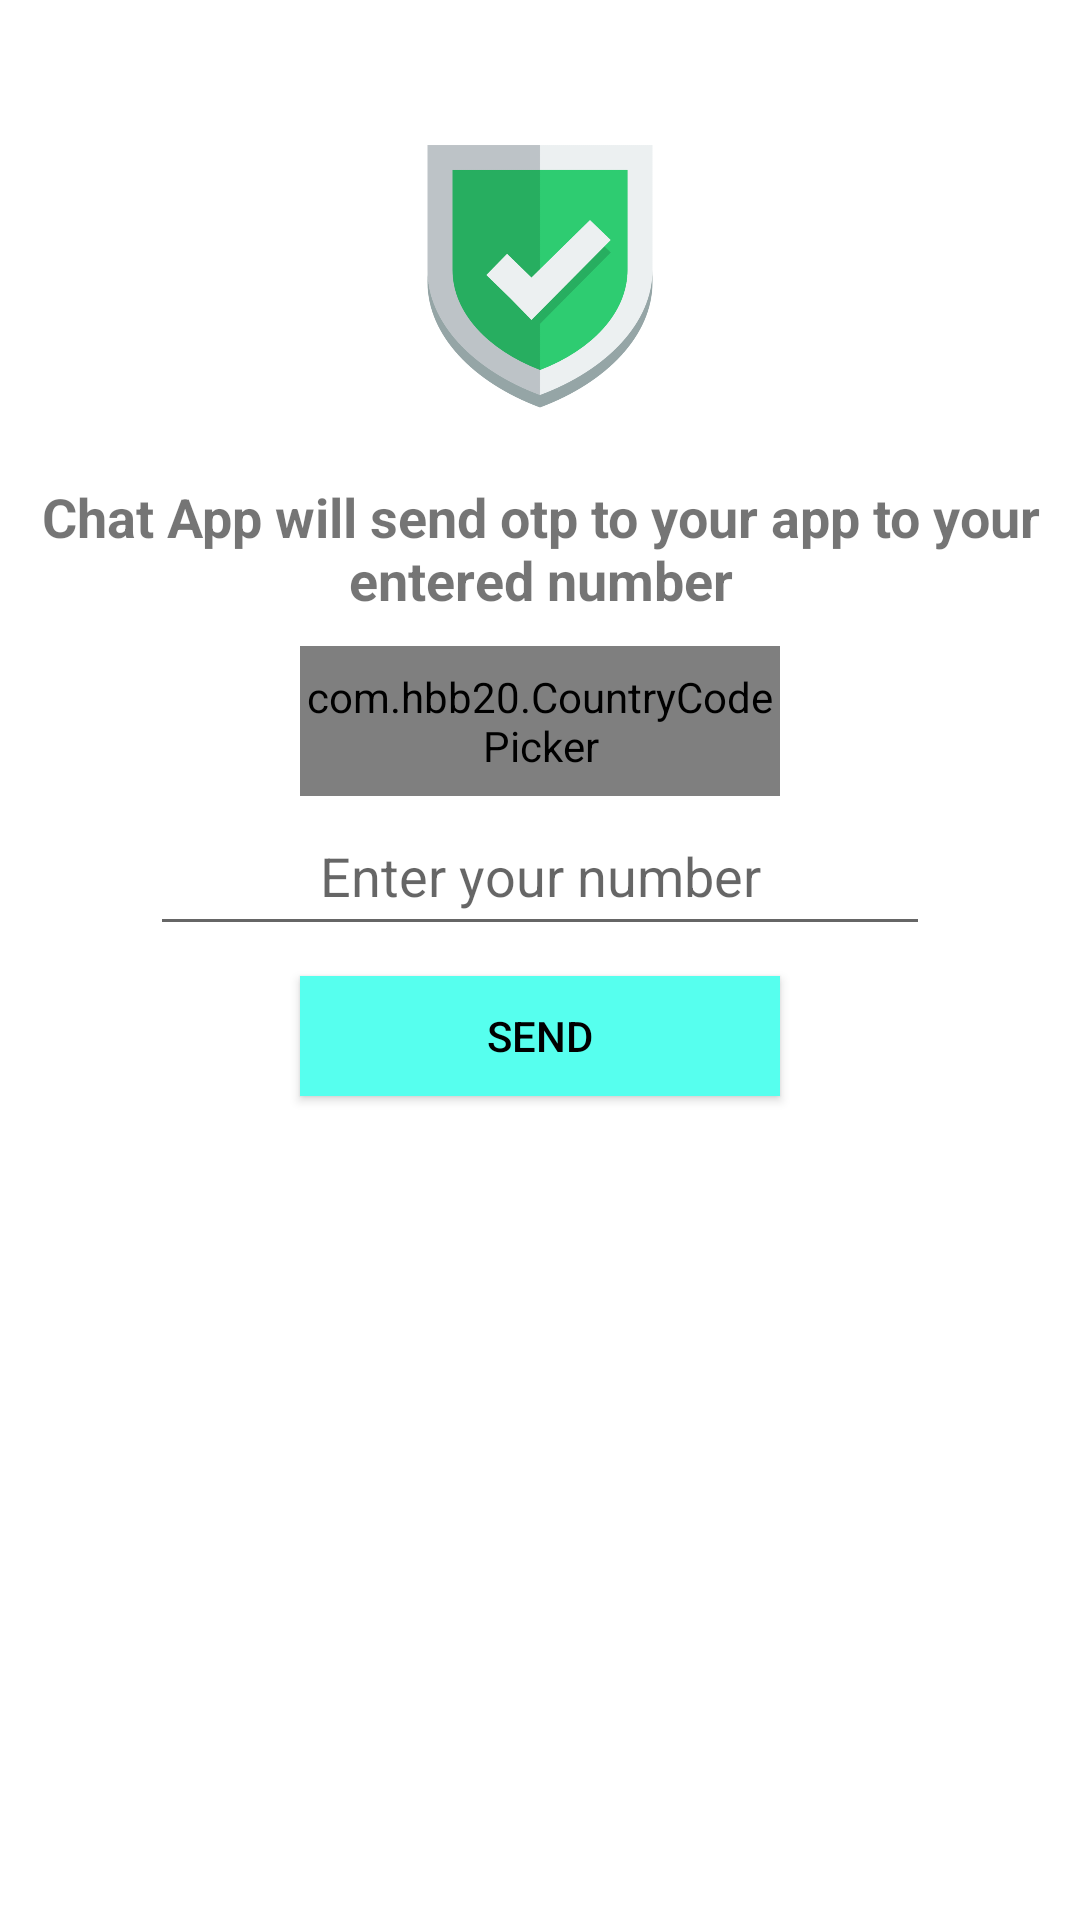

Icons on this 1080px x 1920px Android screen, each with the point to tap as [x,y]:
security shield: [540,276]
